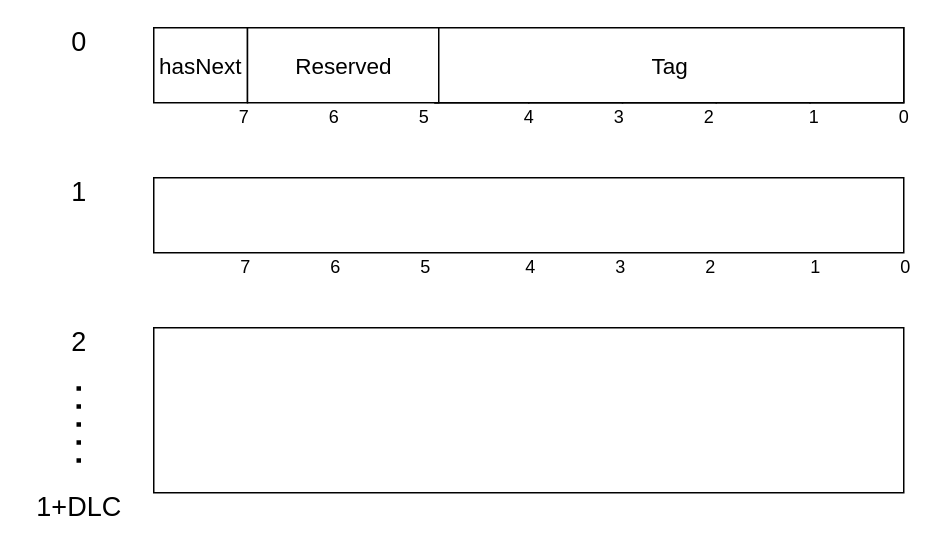
The diagram is 947 pixels wide and 549 high, and some of its shapes have lost their labels. The shapes that lost their labels are listed below. From the top down, each one's centre as x and y in pixels, then its label:
At (x=528, y=214): "DLC".
At (x=528, y=409): "Data".
